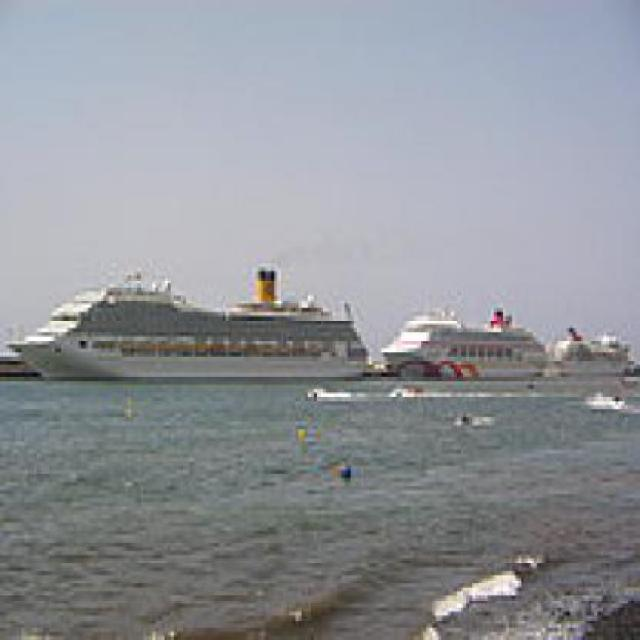cruise: (1, 256, 379, 390), (376, 301, 556, 393)
